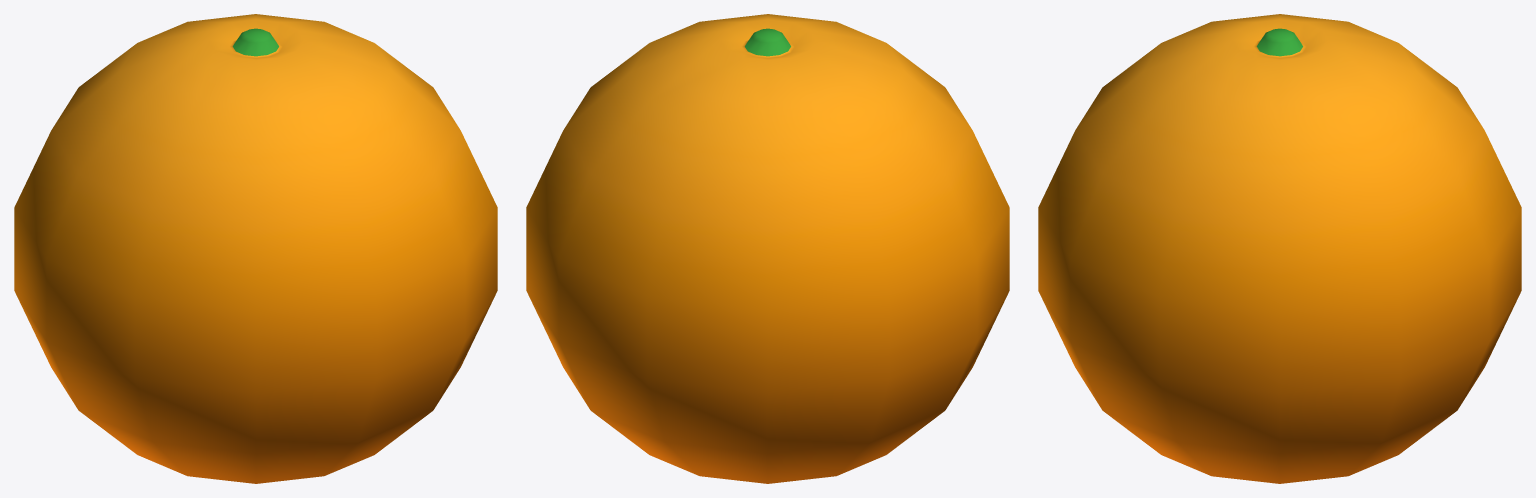
File: Orange.fbx
3 views of the same model, side by side, from view 1: azimuth 30°, elevation 25°; view 2: azimuth 150°, elevation 25°; view 3: azimuth 270°, elevation 25° (orthographic).
Parts seen in each view (by area): view 1: Orange; view 2: Orange; view 3: Orange.
Part boxes in pixels (x1,y1,x2,y2): Orange: (14,14,497,483); Orange: (526,14,1009,483); Orange: (1038,14,1521,483).
Bounding box in the file's own units: 2 × 1.94 × 2.
1 material, 1 textured.
